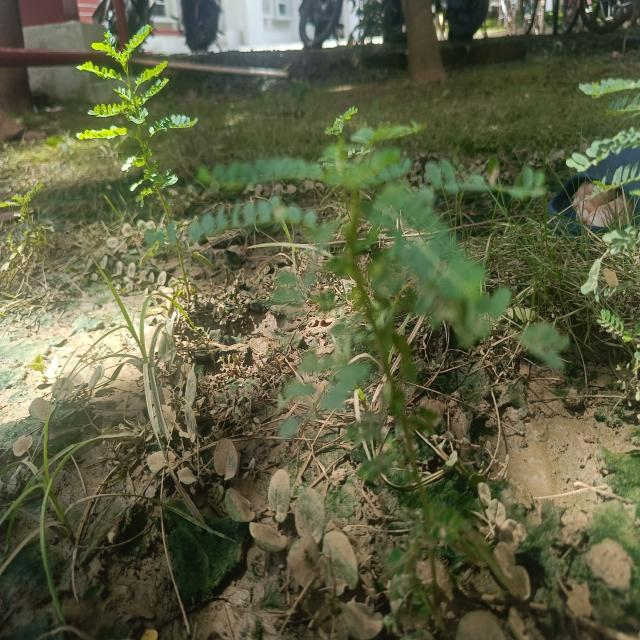weed: (142, 136, 546, 360), (274, 241, 455, 594), (72, 19, 201, 227)
